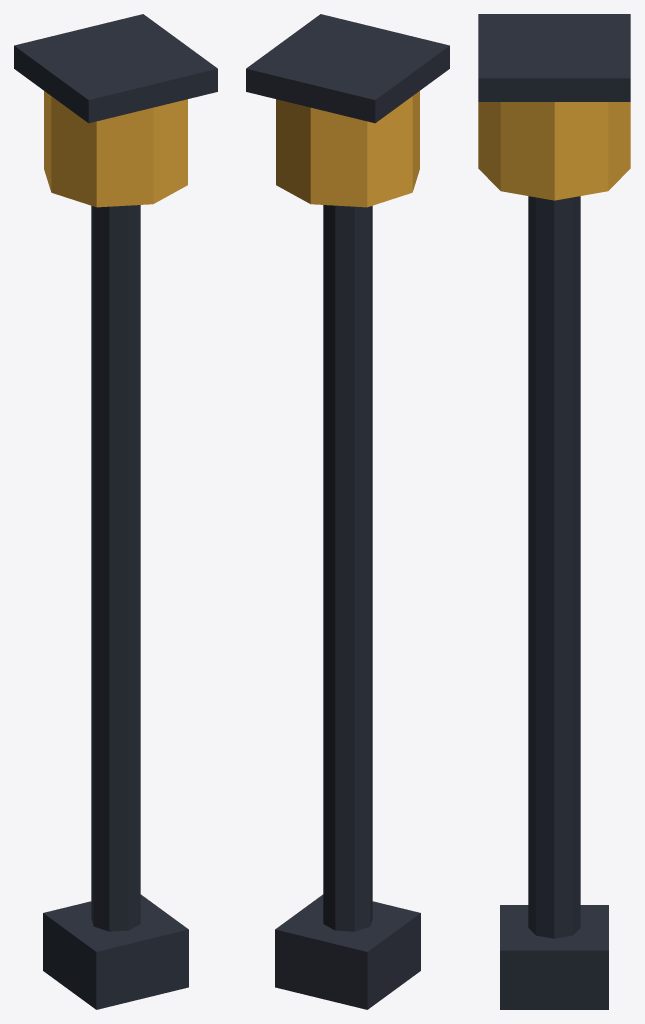
Rendered from lamp.fbx.
3 views of the same model, side by side, from view 1: azimuth 30°, elevation 25°; view 2: azimuth 150°, elevation 25°; view 3: azimuth 270°, elevation 25° (orthographic). The views are drawn at different scales.
Visible parts, largest first — view 1: lamp; view 2: lamp; view 3: lamp.
Boxes of the visible parts, left/top/right/bottom form: lamp: left=14, top=14, right=217, bottom=1009; lamp: left=246, top=14, right=449, bottom=1009; lamp: left=478, top=14, right=630, bottom=1009.
Size of the model in its own units: 0.7 by 4.77 by 0.7.
